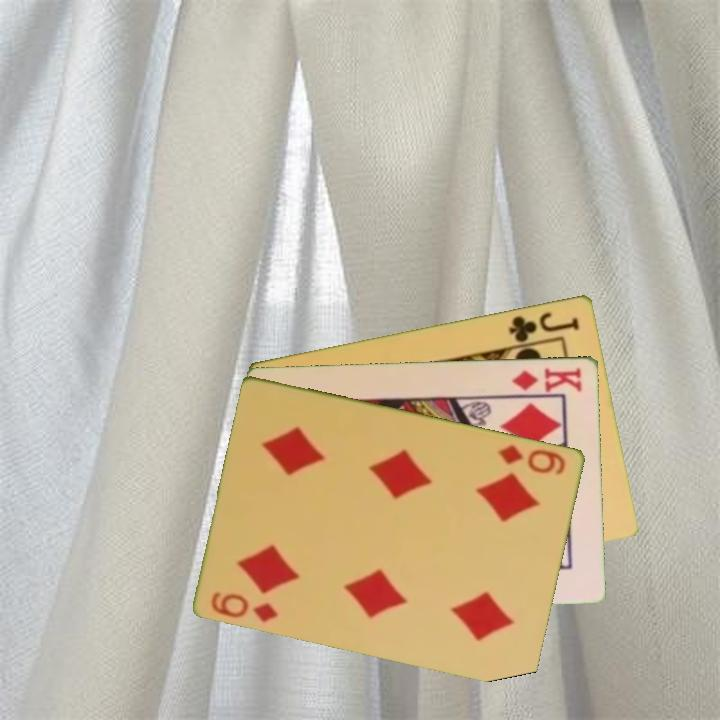6d: (494, 440, 569, 479), (208, 587, 282, 625)
Jc: (506, 308, 582, 345)
Kd: (508, 364, 585, 395)
